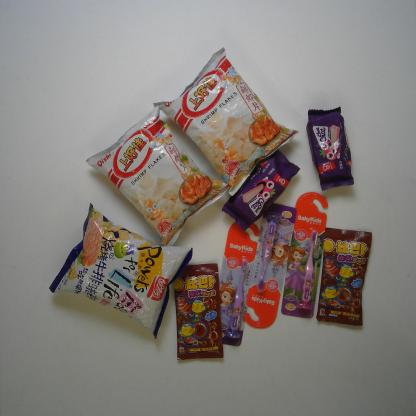Candy: (314, 224, 374, 329), (166, 261, 227, 364)
Dessert: (218, 147, 302, 233), (304, 104, 356, 192)
Personal Hygiene: (242, 199, 298, 332), (279, 189, 330, 322), (213, 218, 263, 349)
Puffed Food: (149, 43, 301, 199), (81, 100, 234, 252), (46, 200, 197, 342)
